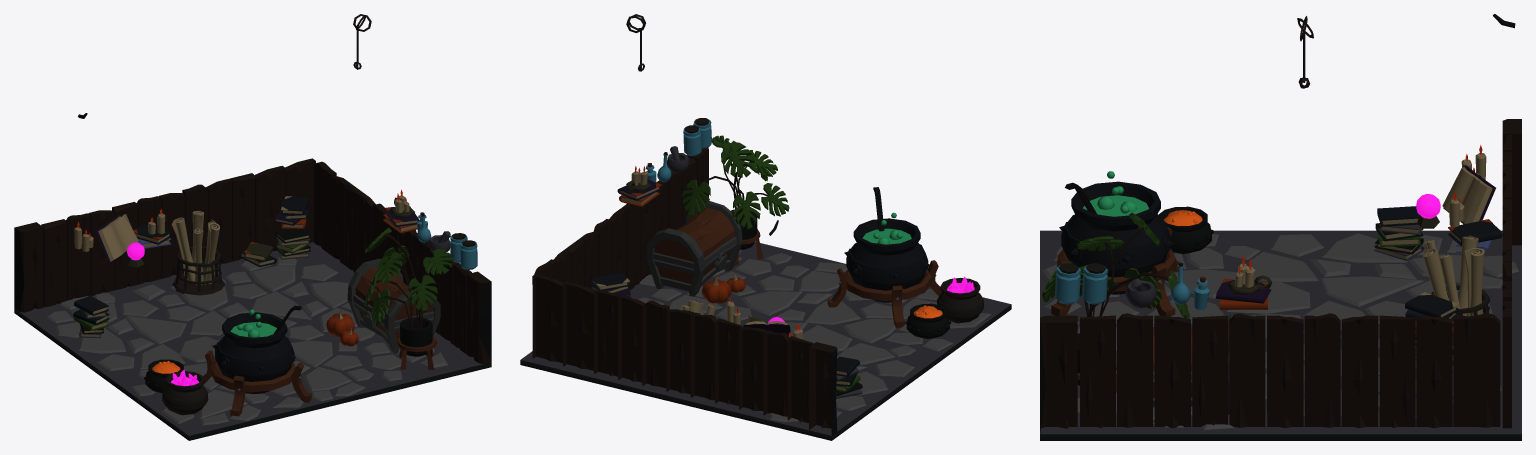
File: wizardpatio.fbx
3 renders of one model, left to right at view 1: azimuth 30°, elevation 25°; view 2: azimuth 150°, elevation 25°; view 3: azimuth 270°, elevation 25°, orthographic. The views are drawn at different scales.
Visible parts, largest first — view 1: polySurface474, polySurface317, polySurface126, polySurface324, polySurface379, polySurface224, pTorus7, polySurface268, pPlane15, polySurface284, polySurface222, polySurface263 (+12 smaller); view 2: polySurface317, polySurface126, polySurface474, polySurface324, pTorus7, polySurface379, polySurface224, polySurface268, polySurface263, pSphere31, pPlane49, books2_polySurface194 (+4 smaller); view 3: polySurface324, polySurface126, polySurface474, polySurface224, polySurface317, pPlane15, polySurface379, pPlane49, polySurface222, pSphere31, polySurface268, pCube210 (+8 smaller).
Boxes of the visible parts, bbox=[...] form: polySurface474: bbox=[47, 256, 447, 425]; polySurface317: bbox=[14, 158, 315, 312]; polySurface126: bbox=[14, 242, 491, 440]; polySurface324: bbox=[314, 161, 491, 363]; polySurface379: bbox=[364, 227, 453, 356]; polySurface224: bbox=[215, 312, 294, 394]; pTorus7: bbox=[347, 258, 440, 353]; polySurface268: bbox=[203, 350, 311, 416]; pPlane15: bbox=[171, 210, 219, 285]; polySurface284: bbox=[172, 246, 225, 295]; polySurface222: bbox=[96, 214, 138, 263]; polySurface263: bbox=[162, 371, 207, 415]; polySurface317: bbox=[532, 273, 837, 435]; polySurface126: bbox=[520, 241, 1011, 440]; polySurface474: bbox=[638, 249, 991, 421]; polySurface324: bbox=[534, 147, 708, 290]; pTorus7: bbox=[646, 201, 742, 296]; polySurface379: bbox=[682, 135, 789, 249]; polySurface224: bbox=[846, 218, 928, 302]; polySurface268: bbox=[827, 260, 941, 327]; polySurface263: bbox=[937, 278, 983, 323]; pSphere31: bbox=[905, 303, 951, 338]; pPlane49: bbox=[836, 356, 862, 398]; books2_polySurface194: bbox=[589, 272, 630, 296]; polySurface324: bbox=[1040, 313, 1500, 432]; polySurface126: bbox=[1040, 230, 1521, 440]; polySurface474: bbox=[1042, 233, 1518, 429]; polySurface224: bbox=[1061, 181, 1170, 294]; polySurface317: bbox=[1502, 119, 1521, 428]; pPlane15: bbox=[1423, 235, 1484, 316]; polySurface379: bbox=[1042, 212, 1190, 385]; pPlane49: bbox=[1374, 206, 1424, 260]; polySurface222: bbox=[1442, 165, 1495, 224]; pSphere31: bbox=[1158, 206, 1213, 254]; polySurface268: bbox=[1051, 226, 1183, 316]; pCube210: bbox=[1083, 171, 1148, 216].
Bounding box in the file's own units: 126 × 116 × 126.
